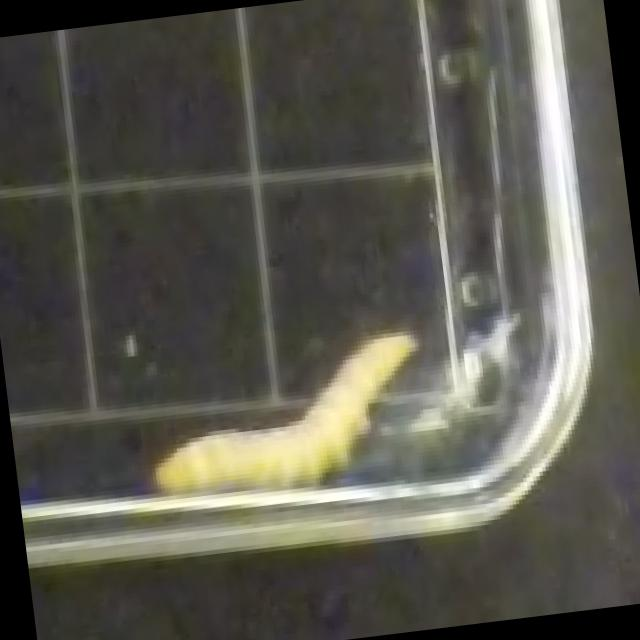larva: (133, 325, 434, 496)
